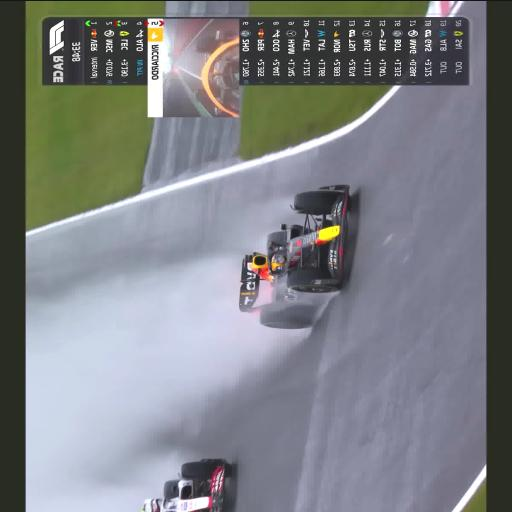f1_car: (239, 184, 349, 328), (160, 458, 231, 512), (195, 29, 239, 116)
